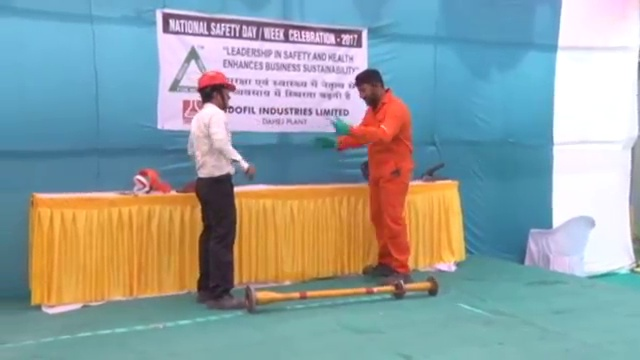helmet: (196, 70, 240, 93)
helmet_off: (354, 68, 386, 107)
helmet_on: (196, 69, 237, 112)
person: (183, 68, 258, 309), (335, 68, 417, 284)
